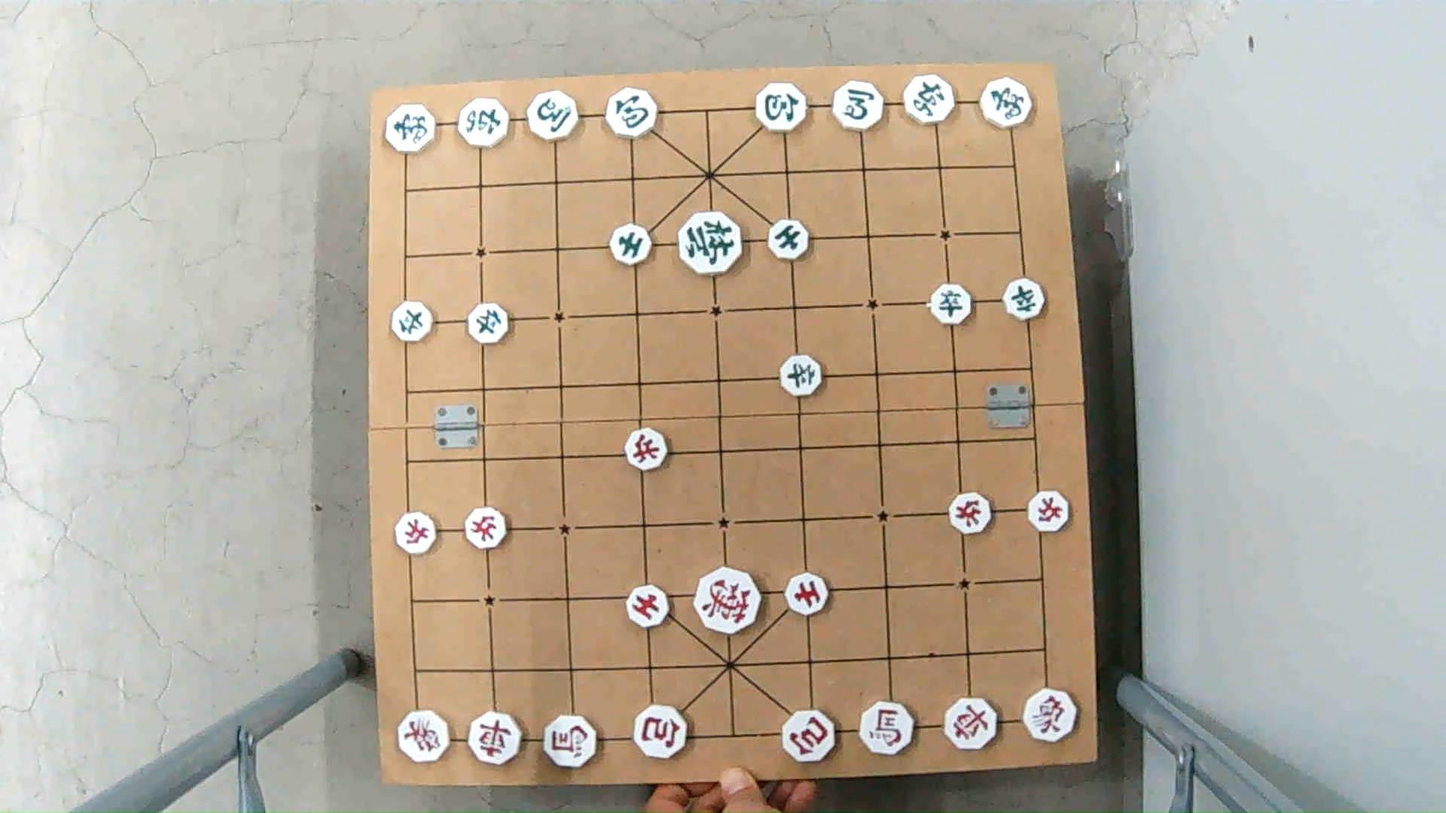cha_green: (458, 98, 514, 145), (903, 77, 958, 123)
cha_red: (943, 699, 1003, 748), (468, 713, 526, 763)
jol_green: (466, 304, 512, 343), (778, 358, 827, 394), (930, 288, 976, 325), (1003, 280, 1048, 317), (390, 304, 435, 341)
jol_red: (462, 510, 511, 548), (621, 431, 669, 469), (393, 515, 440, 553), (946, 497, 994, 534), (1024, 492, 1071, 529)
ma_green: (831, 81, 886, 131), (522, 93, 578, 139)
ma_red: (859, 705, 914, 753), (544, 717, 596, 766)
po_green: (754, 84, 811, 129), (606, 91, 659, 136)
po_red: (779, 711, 840, 761), (630, 707, 688, 757)
sa_green: (767, 221, 815, 262), (609, 226, 656, 263)
sa_red: (623, 589, 673, 629), (782, 574, 831, 614)
sang_green: (383, 105, 438, 152), (978, 80, 1033, 126)
sang_red: (1023, 691, 1082, 741), (398, 711, 456, 760)
wang_green: (679, 214, 746, 268)
wang_red: (691, 574, 761, 632)
